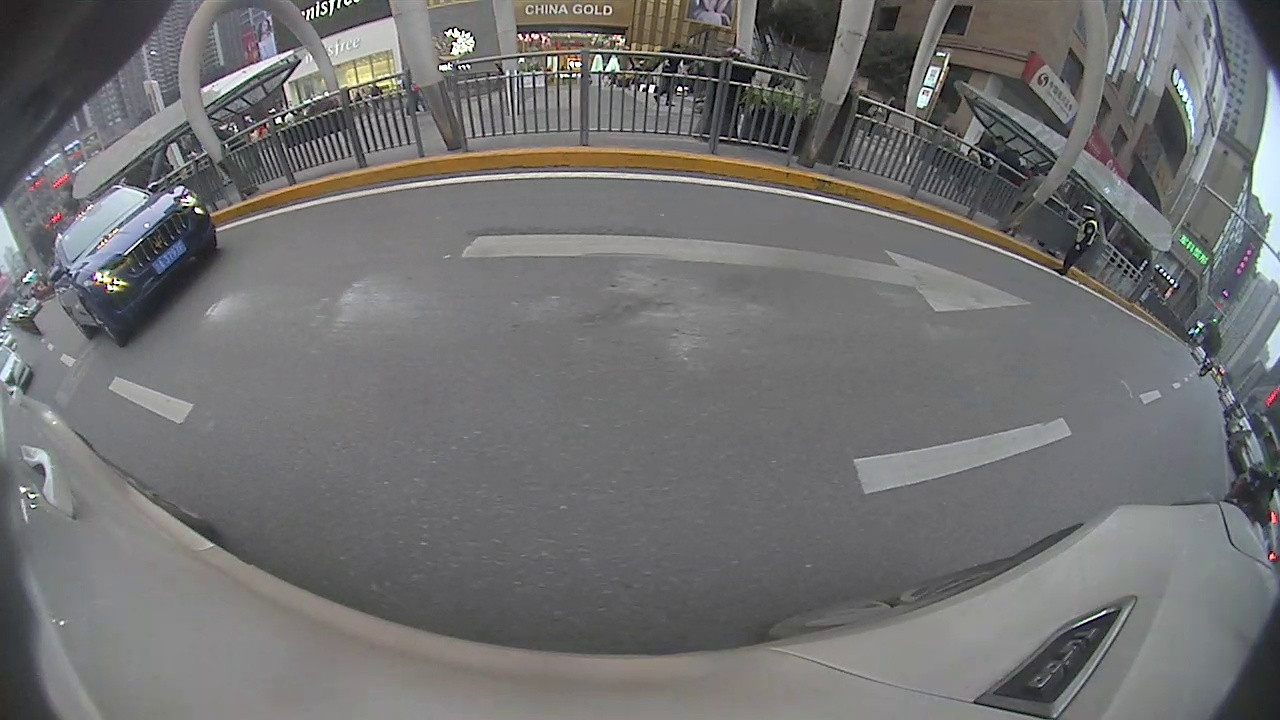car: (48, 181, 216, 345)
person: (1053, 204, 1099, 277)
